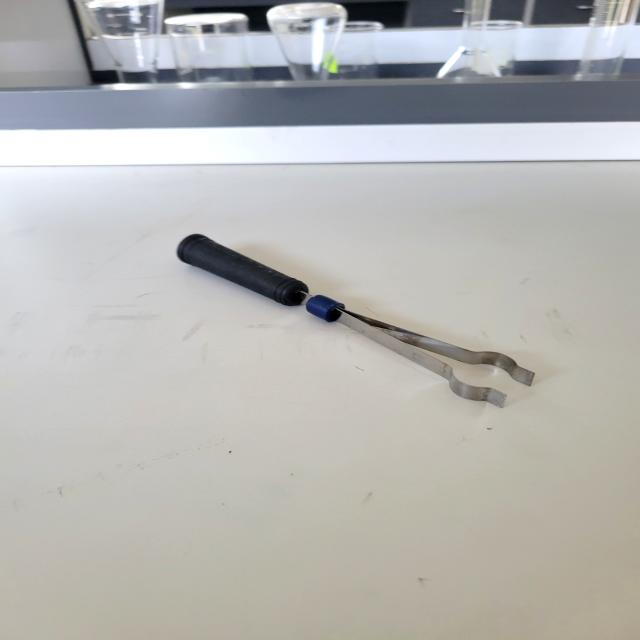TestTube_Holder: (153, 223, 547, 419)
